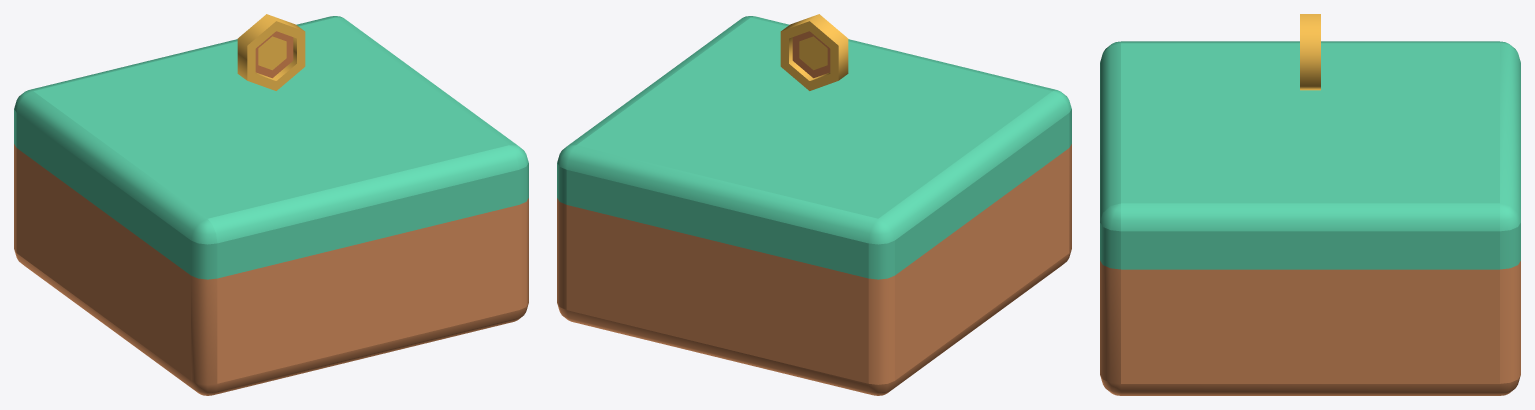
The model's file is level.glb.
3 renders of one model, left to right at view 1: azimuth 30°, elevation 25°; view 2: azimuth 150°, elevation 25°; view 3: azimuth 270°, elevation 25°, orthographic. The views are drawn at different scales.
Visible parts, largest first — view 1: blockRoundedLarge, coinGold; view 2: blockRoundedLarge, coinGold; view 3: blockRoundedLarge, coinGold.
Boxes of the visible parts, bbox=[...] form: blockRoundedLarge: bbox=[14, 16, 528, 395]; coinGold: bbox=[237, 14, 305, 90]; blockRoundedLarge: bbox=[557, 16, 1071, 395]; coinGold: bbox=[780, 14, 848, 90]; blockRoundedLarge: bbox=[1100, 41, 1520, 395]; coinGold: bbox=[1300, 14, 1320, 90].
Size of the model in its own units: 2 by 1.57 by 2.
